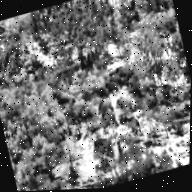boar: (114, 93, 136, 119), (122, 112, 143, 139), (94, 96, 118, 119), (101, 108, 120, 130)
